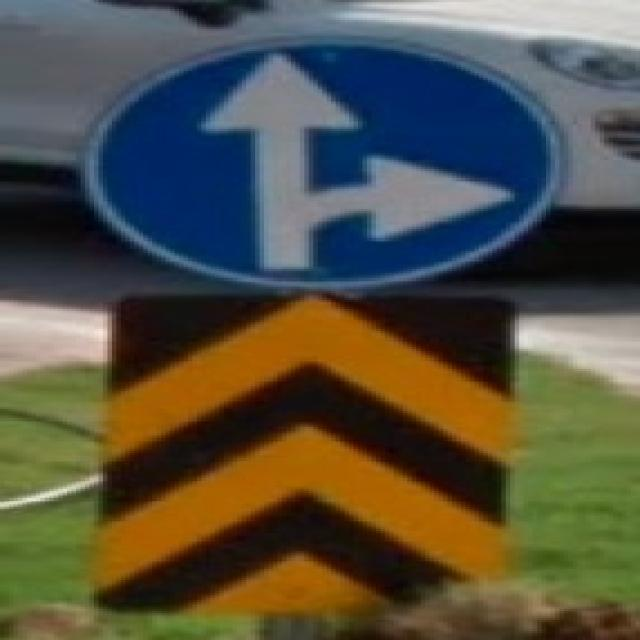Straight or Right: (95, 42, 538, 278)
